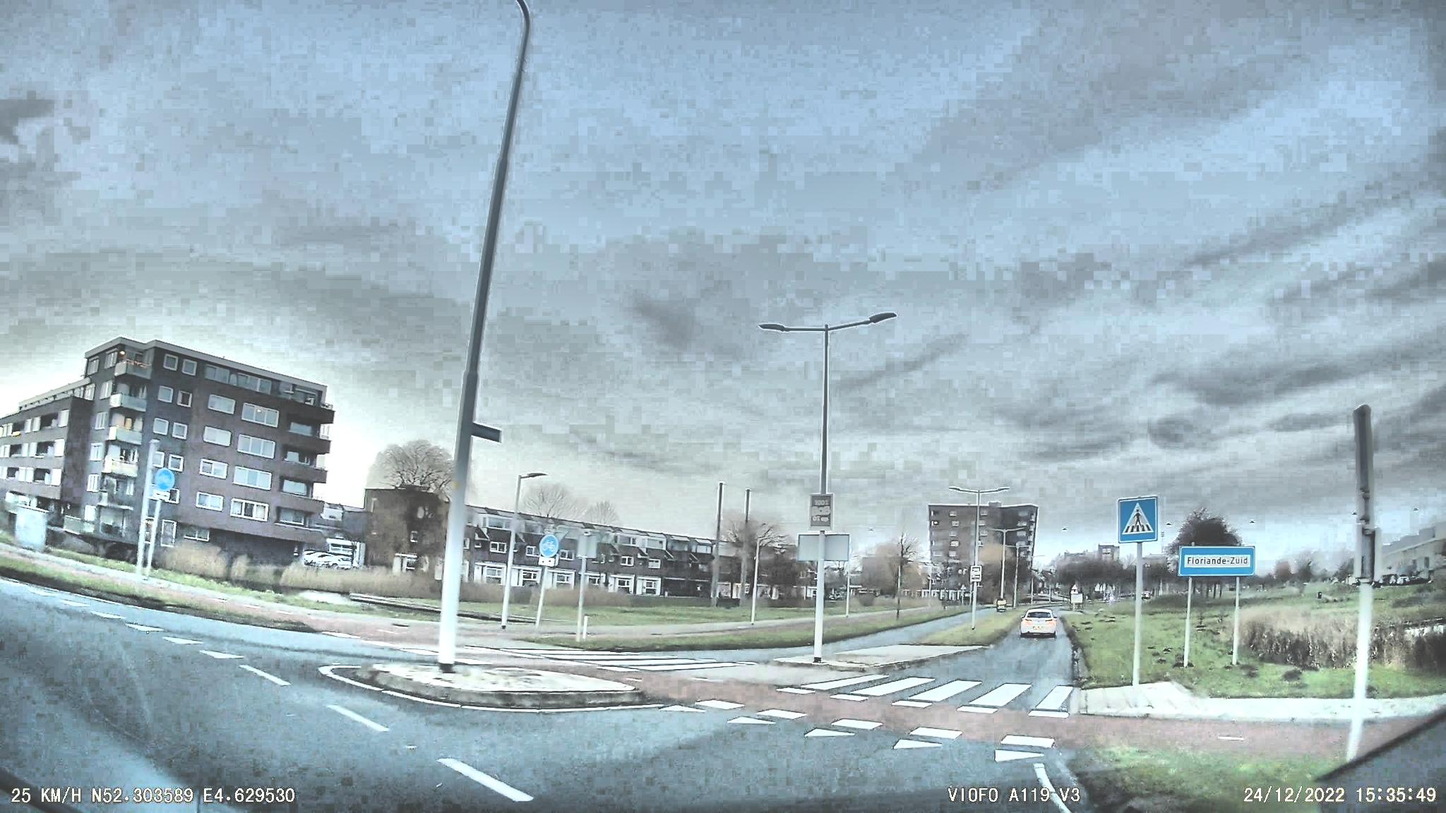Roads: (0, 580, 1075, 813)
